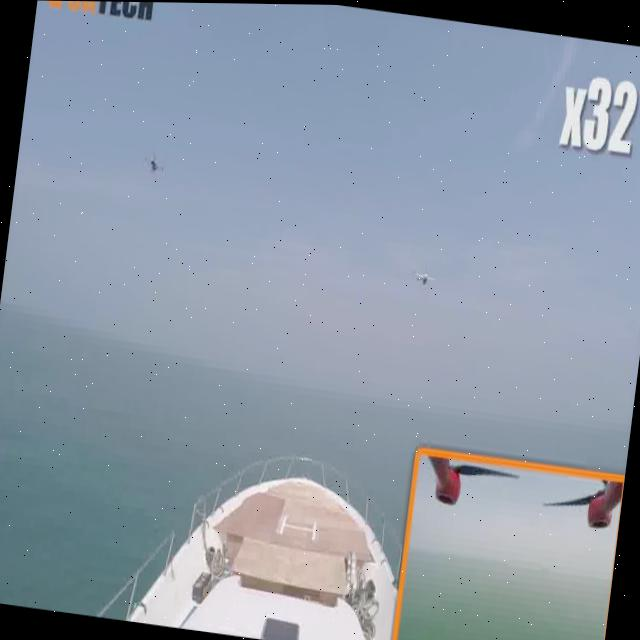drone: (132, 142, 168, 188), (406, 254, 440, 296)
